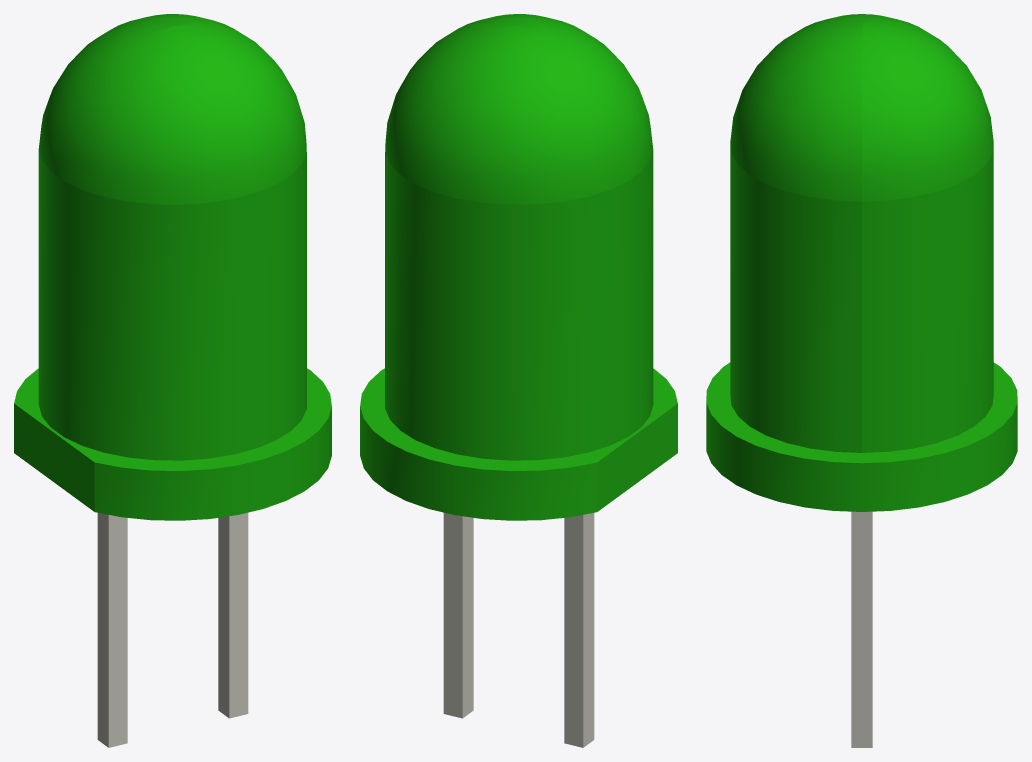
The model's file is kc-led_d5.0mm_green.glb.
3 renders of one model, left to right at view 1: azimuth 30°, elevation 25°; view 2: azimuth 150°, elevation 25°; view 3: azimuth 270°, elevation 25°, orthographic.
Visible parts, largest first — view 1: 0_0.4166666666666667_0_0, 0.6666666666666666_0.6666666666666666_0.5833333333333334_0.8; view 2: 0_0.4166666666666667_0_0, 0.6666666666666666_0.6666666666666666_0.5833333333333334_0.8; view 3: 0_0.4166666666666667_0_0, 0.6666666666666666_0.6666666666666666_0.5833333333333334_0.8.
Part boxes in pixels (x1,y1,x2,y2): 0_0.4166666666666667_0_0: [14, 14, 331, 520]; 0.6666666666666666_0.6666666666666666_0.5833333333333334_0.8: [97, 512, 248, 747]; 0_0.4166666666666667_0_0: [360, 14, 677, 520]; 0.6666666666666666_0.6666666666666666_0.5833333333333334_0.8: [443, 512, 594, 747]; 0_0.4166666666666667_0_0: [706, 14, 1017, 511]; 0.6666666666666666_0.6666666666666666_0.5833333333333334_0.8: [851, 511, 872, 747].
Size of the model in its own units: 0.54 by 1.41 by 0.5782.
